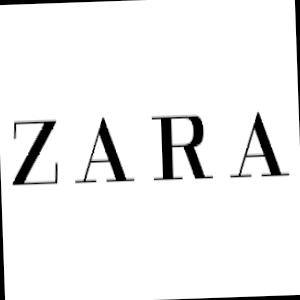zara: (9, 98, 296, 200)
